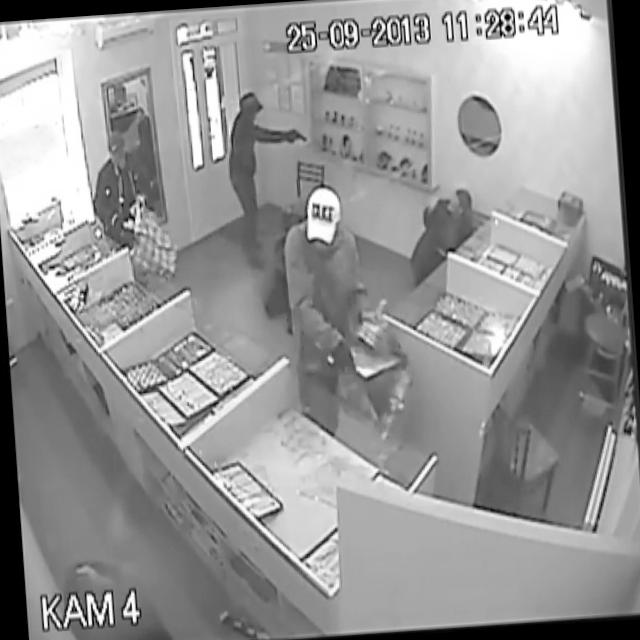gun: (279, 116, 309, 153)
person: (266, 179, 376, 376), (78, 132, 156, 228), (404, 172, 474, 246)
person with a gun: (213, 84, 324, 270)
